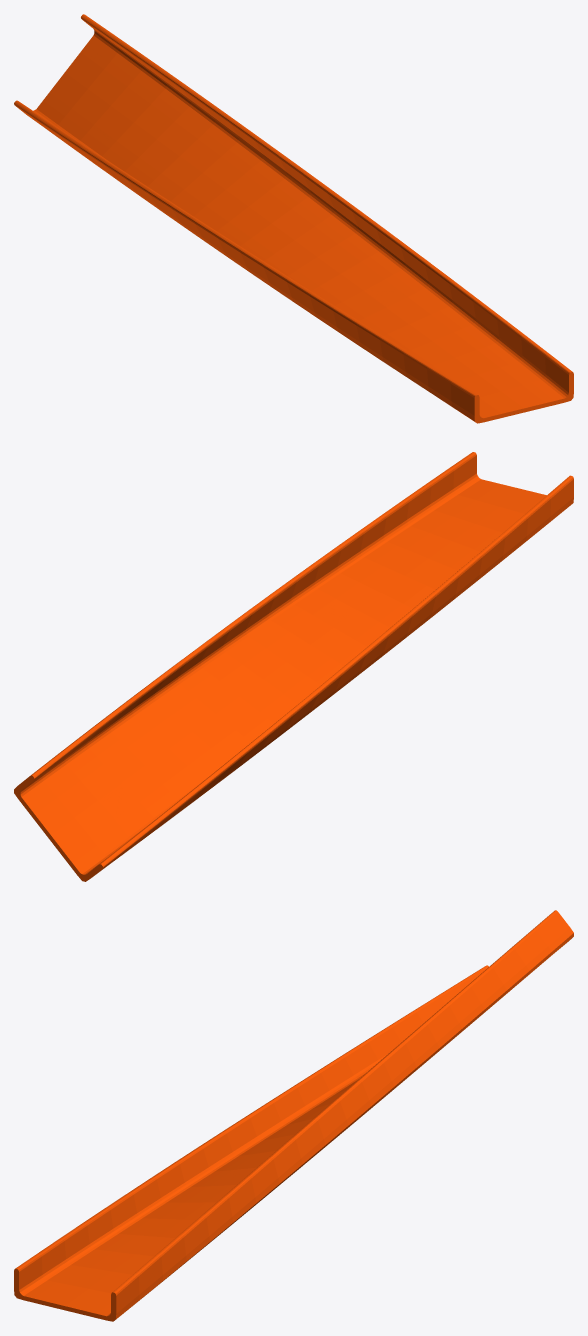
Rendered from Reta twist 45.FBX.
3 views of the same model, one above another, from view 1: azimuth 30°, elevation 25°; view 2: azimuth 150°, elevation 25°; view 3: azimuth 330°, elevation 25° (orthographic). The views are drawn at different scales.
Visible parts, largest first — view 1: Reta twist 45; view 2: Reta twist 45; view 3: Reta twist 45.
Part boxes in pixels (x1,y1,x2,y2): Reta twist 45: [14, 14, 573, 423]; Reta twist 45: [14, 452, 573, 881]; Reta twist 45: [14, 910, 573, 1321].
Bounding box in the file's own units: 261 × 218 × 2000.
